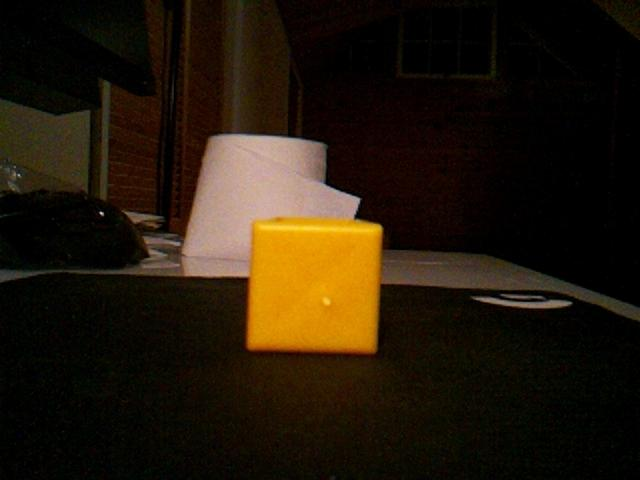yellow: (245, 216, 384, 356)
